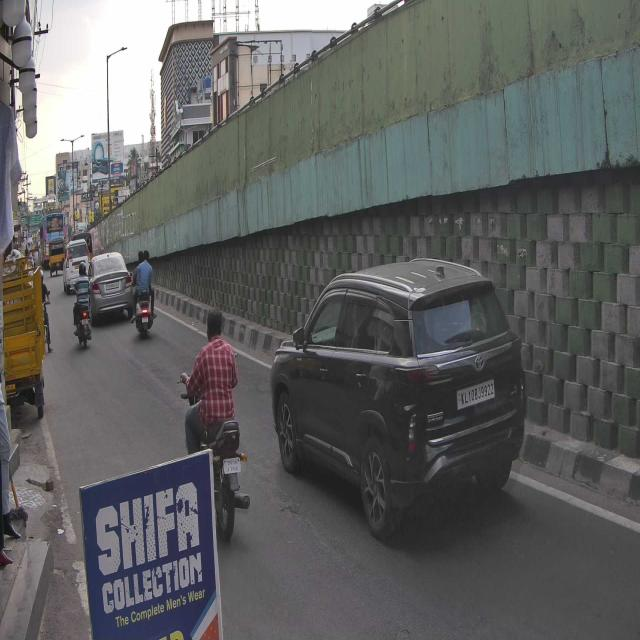single_rider: (178, 304, 252, 542)
